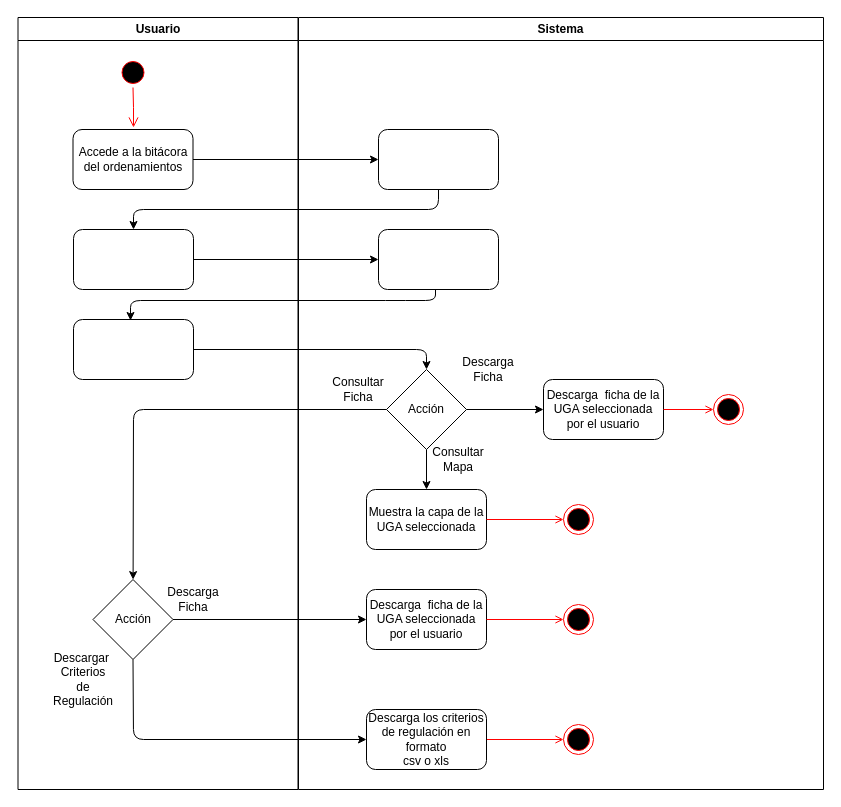
The diagram is 841 pixels wide and 807 high, and some of its shapes have lost their labels. The box of each missing label's shape, as (x1, y1, x2, y2) in pixels:
Despliega capas de UGAs: (378, 228, 498, 290)
Presenta interfaz de bitácora de ordenamientos: (378, 128, 498, 190)
Selcciona el ordenamiento deseado (POETY, POETCY, o POEL): (72, 228, 194, 290)
Selecciona la UGA de interés: (72, 318, 194, 380)
